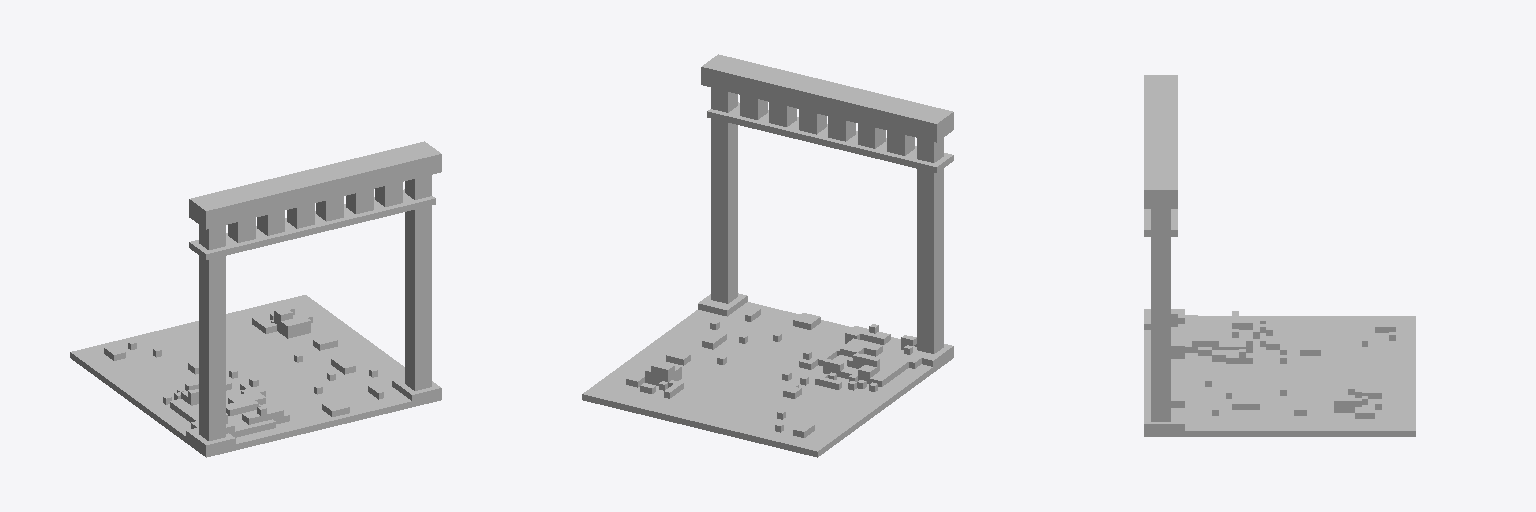
Rendered from door2.obj.
The picture shows the model from 3 angles: view 1: azimuth 30°, elevation 25°; view 2: azimuth 150°, elevation 25°; view 3: azimuth 270°, elevation 25°; orthographic projection.
Visible parts, largest first — view 1: door2; view 2: door2; view 3: door2.
Boxes of the visible parts, x1,y1,x2,y2 form: door2: [70, 141, 441, 457]; door2: [582, 54, 953, 457]; door2: [1144, 75, 1415, 436].
Size of the model in its own units: 40 by 40 by 40.